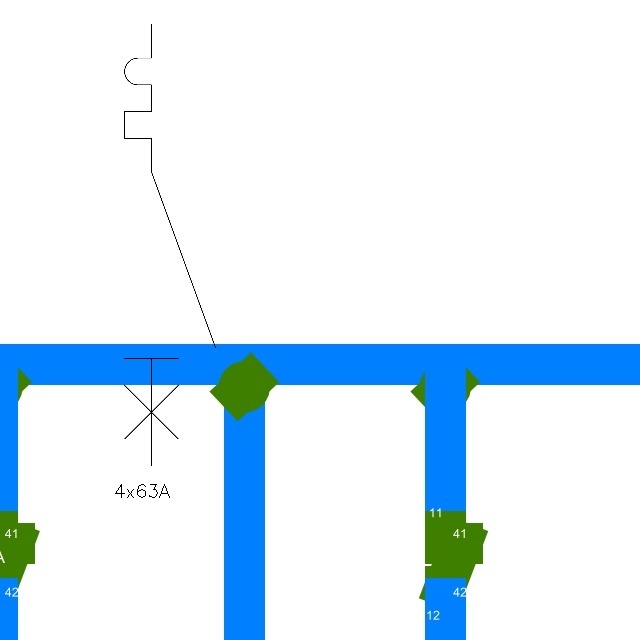interruptor_termomagnetico: (113, 13, 226, 477)
